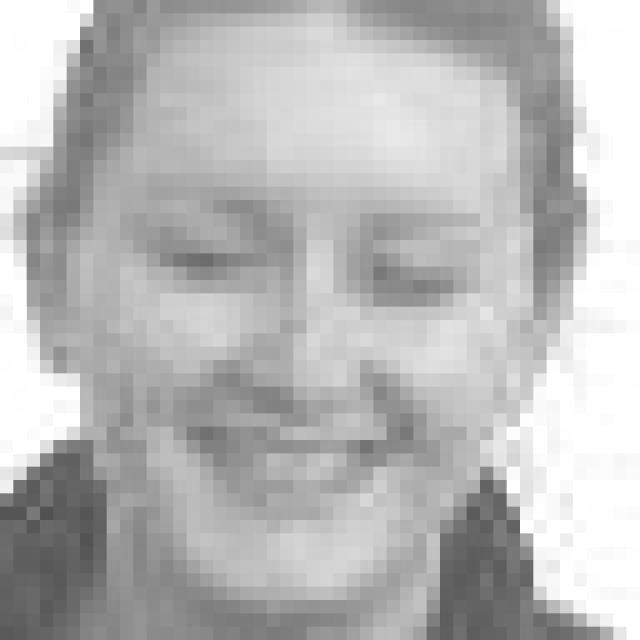real: (80, 22, 588, 580), (164, 208, 488, 324)
